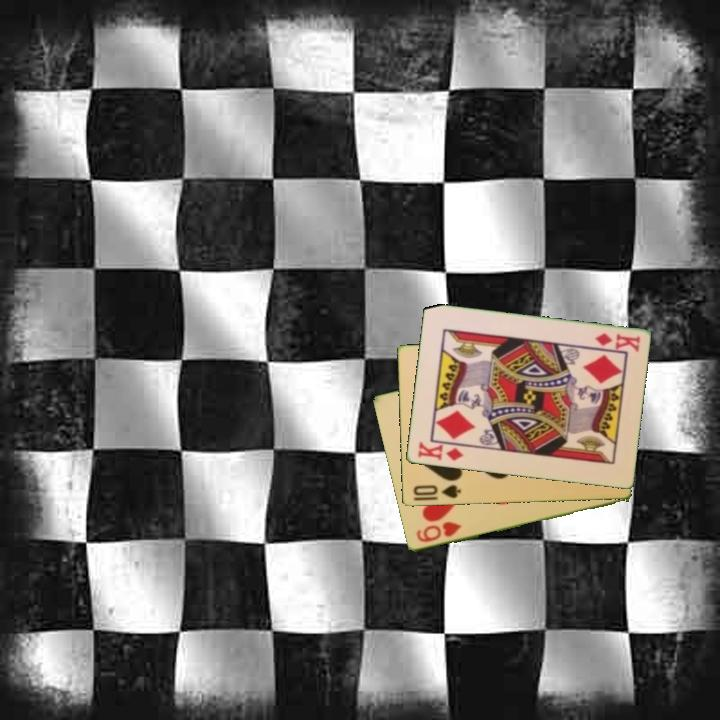10s: (410, 482, 463, 502)
6h: (413, 518, 464, 546)
Kd: (414, 439, 466, 464), (591, 330, 643, 354)
